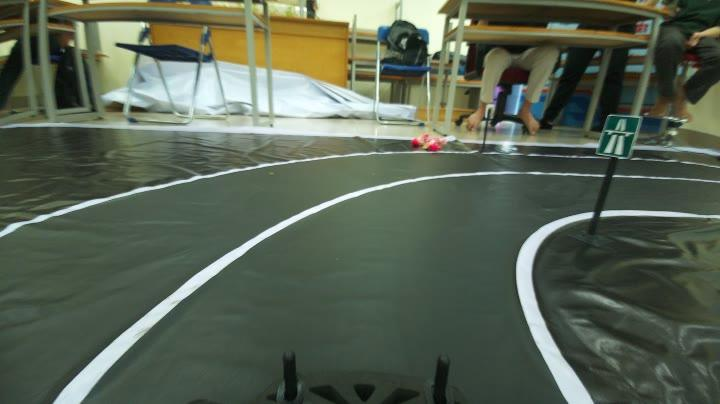highway_entry: (591, 108, 645, 166)
